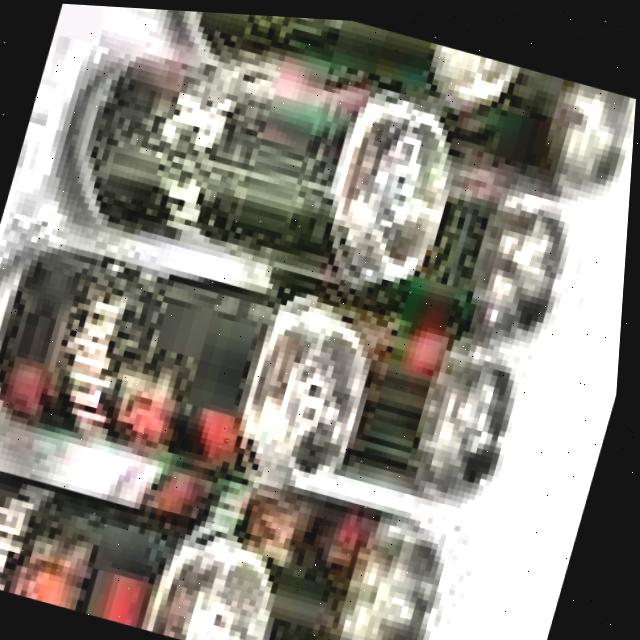metal: (26, 3, 487, 311), (0, 215, 407, 520), (79, 413, 486, 640), (214, 267, 561, 524), (281, 126, 606, 357), (0, 449, 316, 640), (130, 6, 538, 137), (440, 47, 639, 218)
